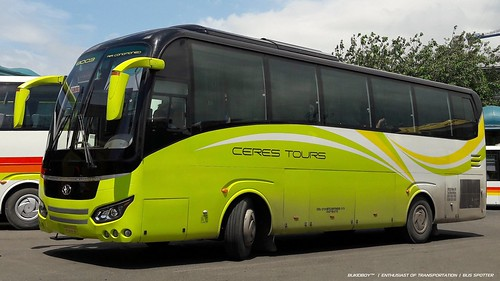bus: (39, 26, 486, 238)
